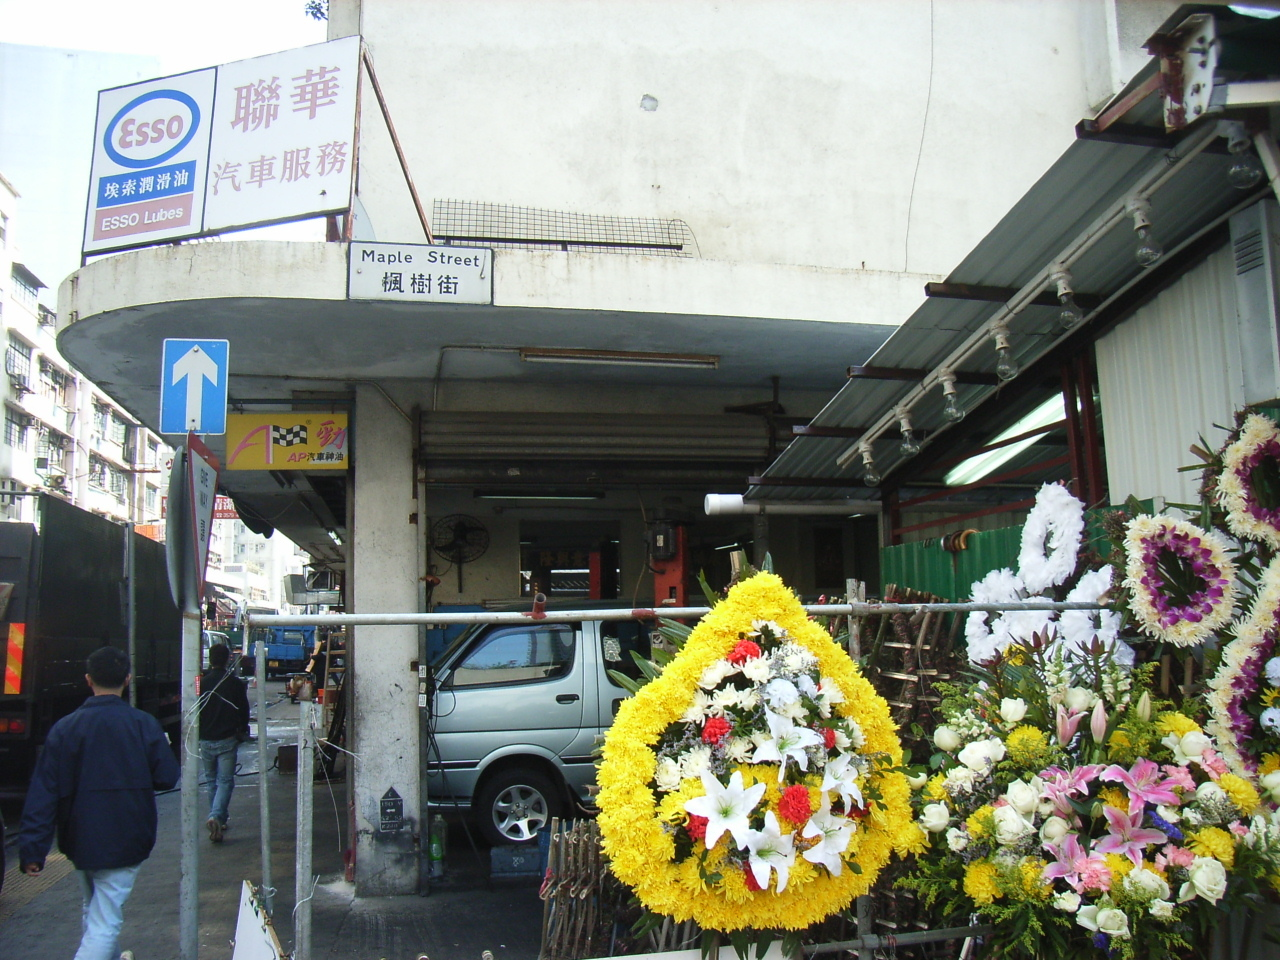One Way Traffic: (157, 333, 232, 428)
